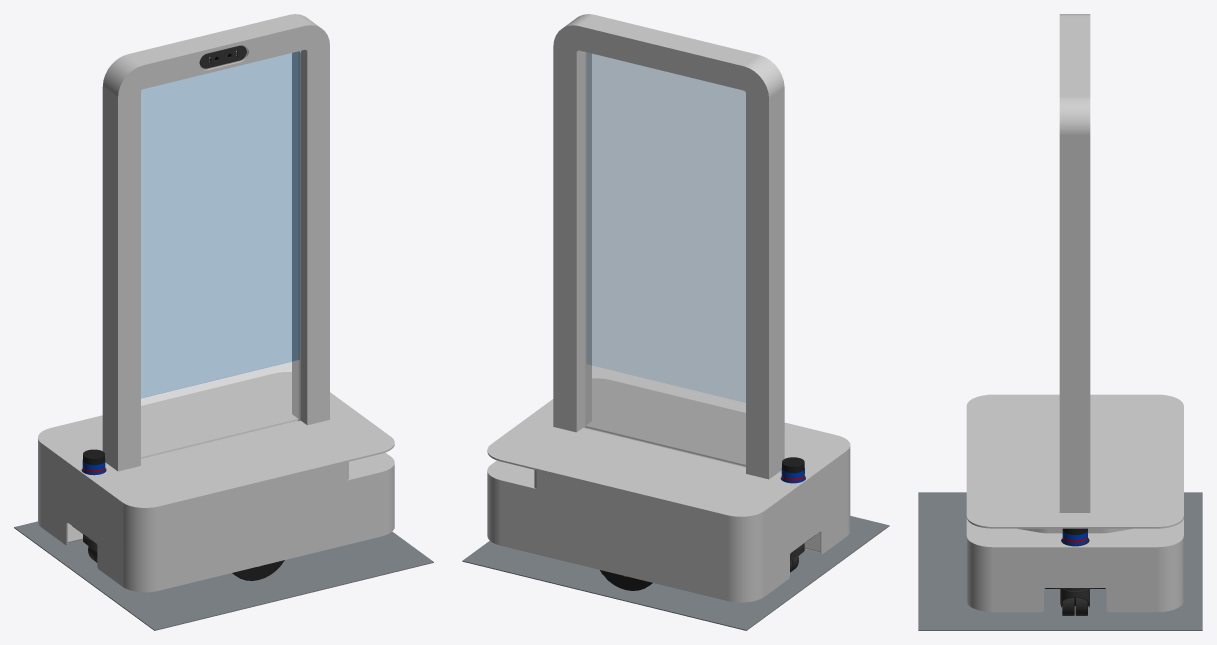
3 views of the same model, side by side, from view 1: azimuth 30°, elevation 25°; view 2: azimuth 150°, elevation 25°; view 3: azimuth 270°, elevation 25° (orthographic).
Visible parts, largest first — view 1: 0111-ǁ幕, 3123-ʏ, 3122-º, 1001-µ, 3121-Ç°Íâ¿ÇîÓ½ð, 3124-ʣбͷdΐ4Y¤bg, 3116-IZE0168ʣб; view 2: 0111-ǁ幕, 3123-ʏ, 3122-º, 1001-µ, 3121-Ç°Íâ¿ÇîÓ½ð, 3124-ʣбͷdΐ4Y¤bg, 1711-±ݕϚ雷达; view 3: 3123-ʏ, 3121-Ç°Íâ¿ÇîÓ½ð, 1001-µ, 3124-ʣбͷdΐ4Y¤bg, 1611-µ¼º½ª雷达.
Boxes of the visible parts, bbox=[...] form: 0111-ǁ幕: bbox=[141, 51, 300, 459]; 3123-ʏ: bbox=[38, 14, 394, 509]; 3122-º: bbox=[38, 440, 302, 592]; 1001-µ: bbox=[14, 521, 433, 630]; 3121-Ç°Íâ¿ÇîÓ½ð: bbox=[297, 420, 394, 555]; 3124-ʣбͷdΐ4Y¤bg: bbox=[169, 25, 263, 77]; 3116-IZE0168ʣб: bbox=[199, 45, 247, 69]; 0111-ǁ幕: bbox=[583, 51, 745, 467]; 3123-ʏ: bbox=[487, 14, 850, 518]; 3122-º: bbox=[581, 448, 850, 602]; 1001-µ: bbox=[462, 516, 889, 630]; 3121-Ç°Íâ¿ÇîÓ½ð: bbox=[487, 427, 586, 565]; 3124-ʣбͷdΐ4Y¤bg: bbox=[621, 25, 716, 78]; 1711-±ݕϚ雷达: bbox=[780, 457, 805, 483]; 3123-ʏ: bbox=[966, 14, 1183, 528]; 3121-Ç°Íâ¿ÇîÓ½ð: bbox=[966, 518, 1183, 612]; 1001-µ: bbox=[918, 492, 1202, 630]; 3124-ʣбͷdΐ4Y¤bg: bbox=[1059, 37, 1090, 75]; 1611-µ¼º½ª雷达: bbox=[1061, 528, 1089, 546].
Bounding box in the file's own units: 0.6359 × 1.09 × 0.5546.
